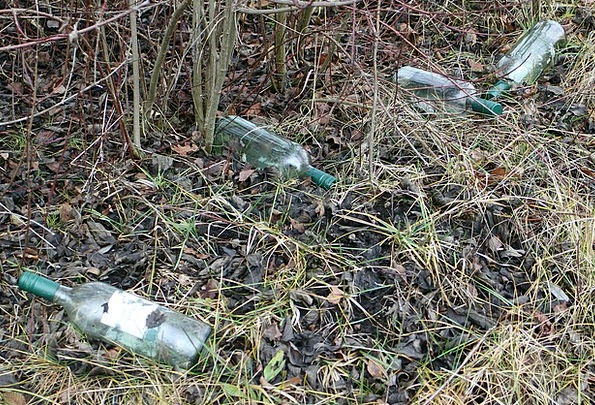bottle: (14, 270, 214, 374), (212, 113, 338, 191), (482, 18, 569, 101), (391, 64, 503, 119)
